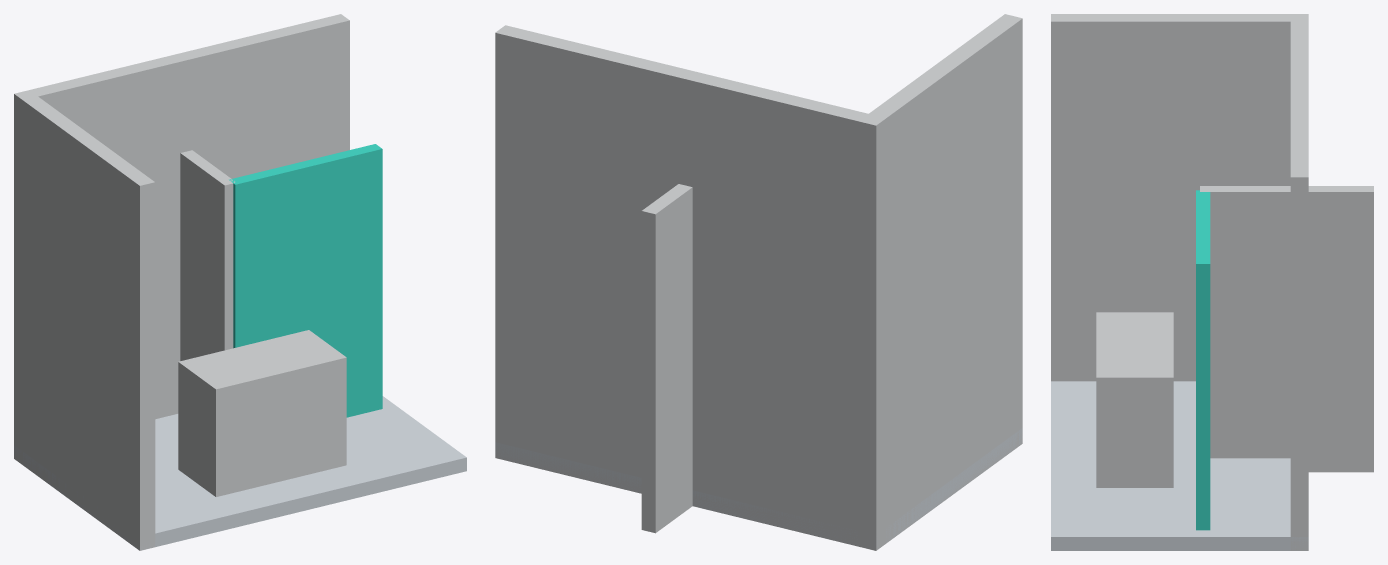
The picture shows the model from 3 angles, left to right: view 1: azimuth 30°, elevation 25°; view 2: azimuth 150°, elevation 25°; view 3: azimuth 270°, elevation 25°; orthographic projection. The views are drawn at different scales.
Parts seen in each view (by area): view 1: Exhibition Booth Concept; view 2: Exhibition Booth Concept; view 3: Exhibition Booth Concept.
Boxes of the visible parts, x1,y1,x2,y2 form: Exhibition Booth Concept: (14,14,466,550); Exhibition Booth Concept: (495,14,1022,550); Exhibition Booth Concept: (1051,14,1373,550).
Size of the model in its own units: 3 by 3.2 by 2.5.
